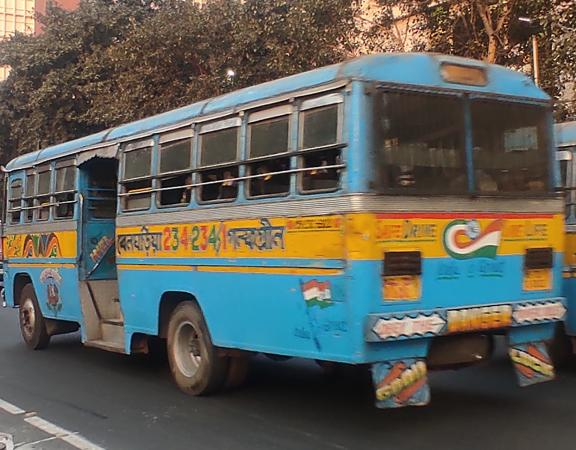Bus: (8, 51, 568, 415)
